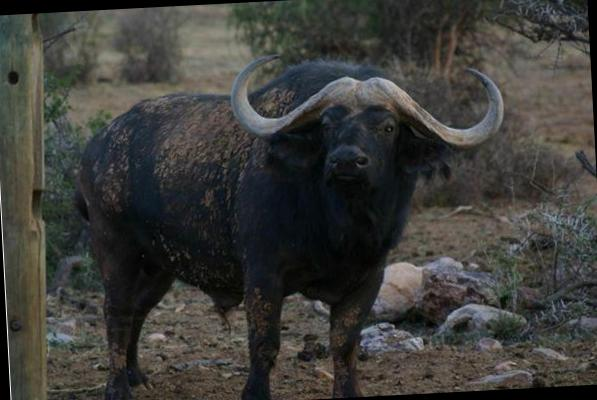Buffalo: (24, 40, 540, 400)
